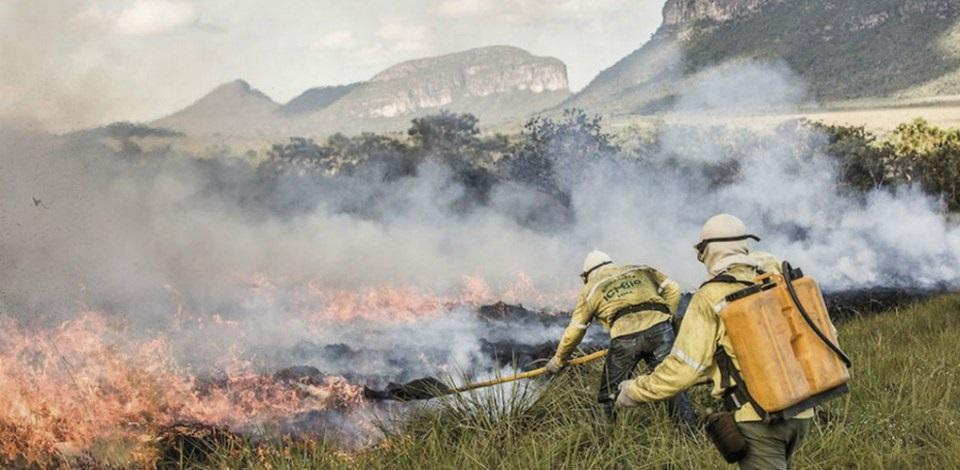fire: (15, 349, 169, 434)
smoke: (14, 171, 223, 311), (256, 219, 546, 274)
